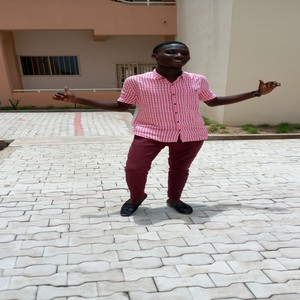Fulokoja_male_student: (124, 47, 202, 212)
